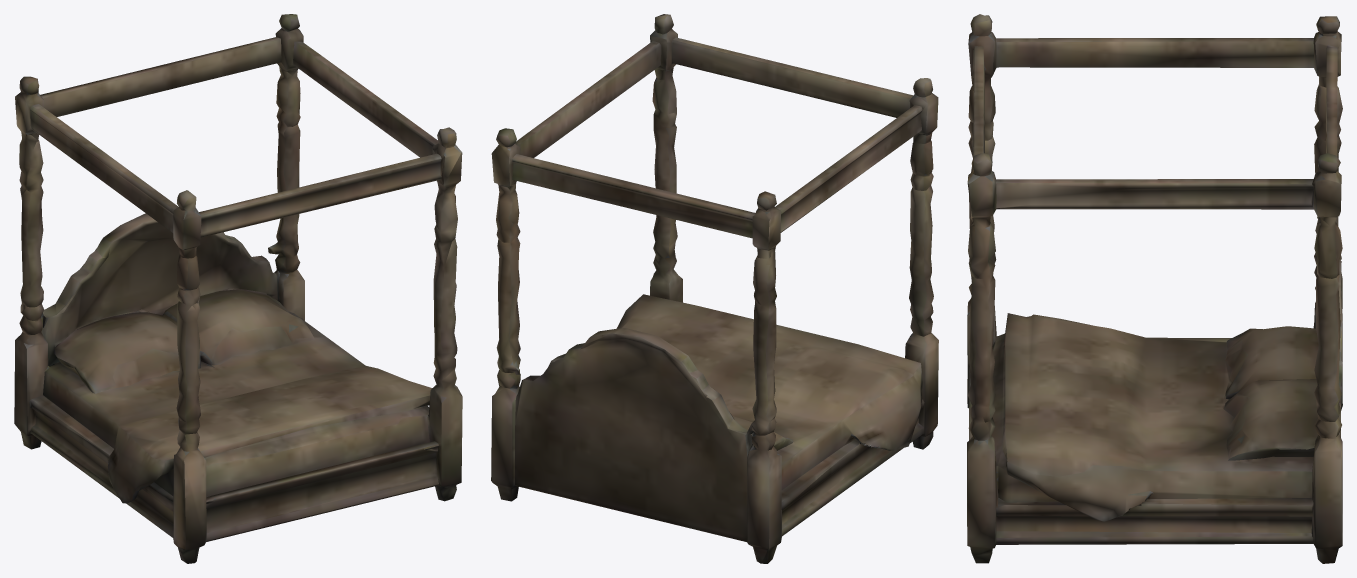
File: weathered-wood-four-poster-bed-v003.glb
The picture shows the model from 3 angles, left to right: view 1: azimuth 30°, elevation 25°; view 2: azimuth 150°, elevation 25°; view 3: azimuth 270°, elevation 25°; orthographic projection. The views are drawn at different scales.
Parts seen in each view (by area): view 1: weathered-wood-four-poster-bed; view 2: weathered-wood-four-poster-bed; view 3: weathered-wood-four-poster-bed.
Boxes of the visible parts, x1,y1,x2,y2 form: weathered-wood-four-poster-bed: [14, 14, 462, 563]; weathered-wood-four-poster-bed: [491, 14, 938, 563]; weathered-wood-four-poster-bed: [967, 14, 1342, 563].
Bounding box in the file's own units: 1.84 × 2.14 × 1.79.
Materials: 1 (1 with a texture image).
